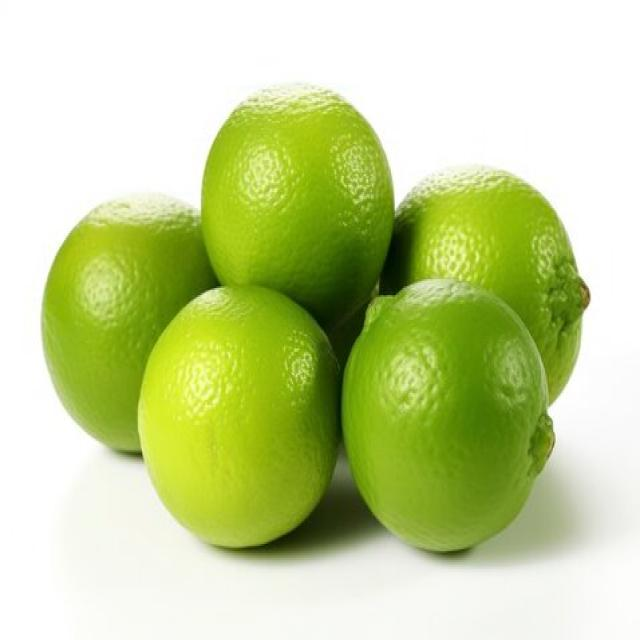Lemon: (340, 275, 556, 553), (136, 281, 342, 549), (379, 162, 590, 407), (199, 82, 395, 322), (40, 191, 217, 454)
